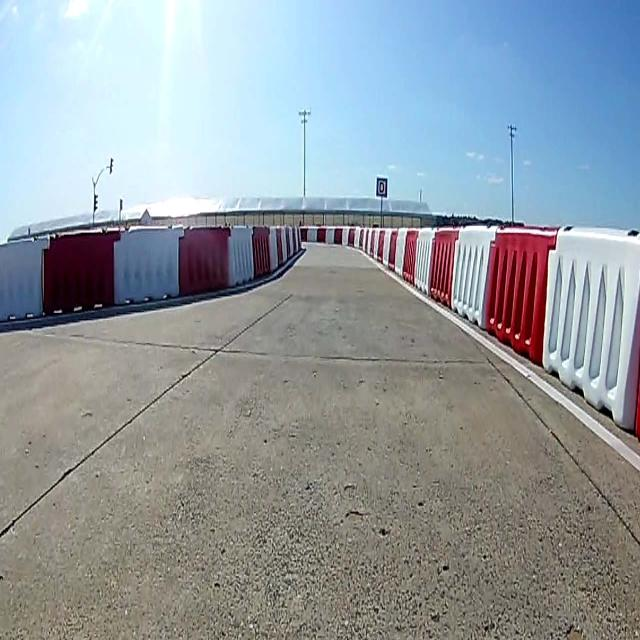durak: (377, 175, 388, 198)
